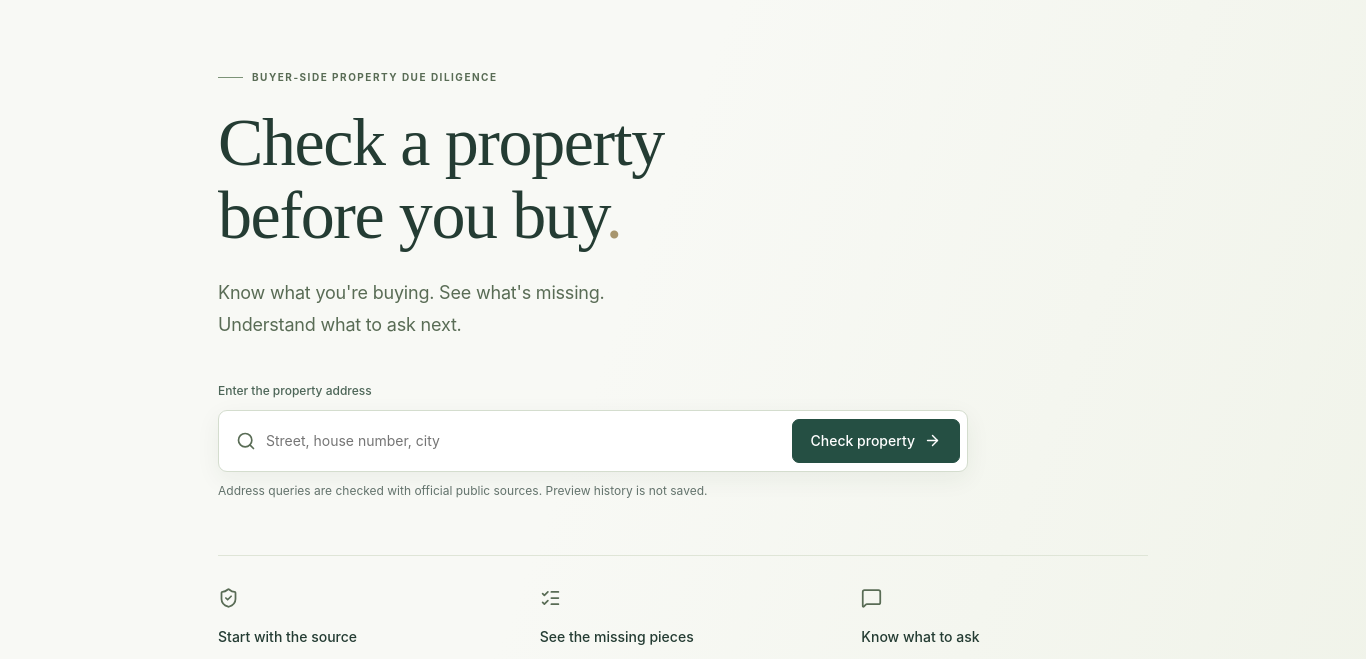
submits the address form and renders the official preview
Step 1. Type "Teststraat 42 Gent" into the field labelled "Enter the property address" → (524, 441), box [266, 418, 782, 464]
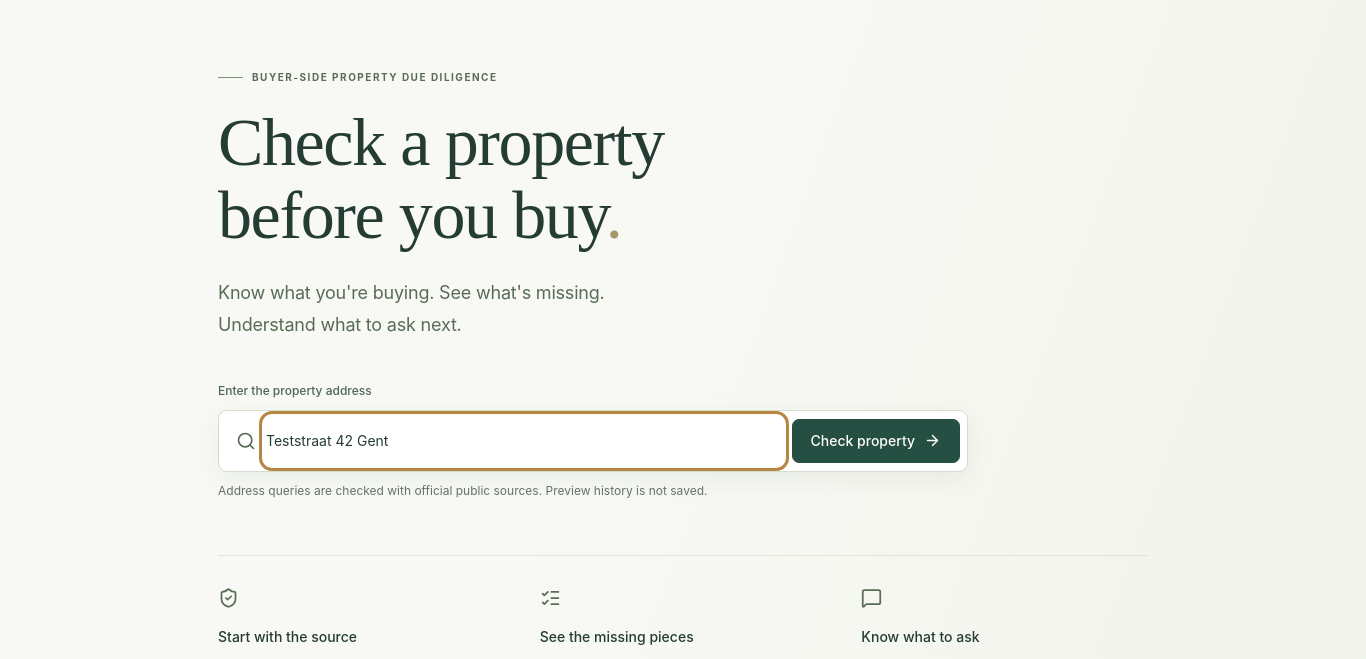
Step 2. Click the button "Check property" → (876, 441), box [792, 419, 960, 463]
(page scrolled)
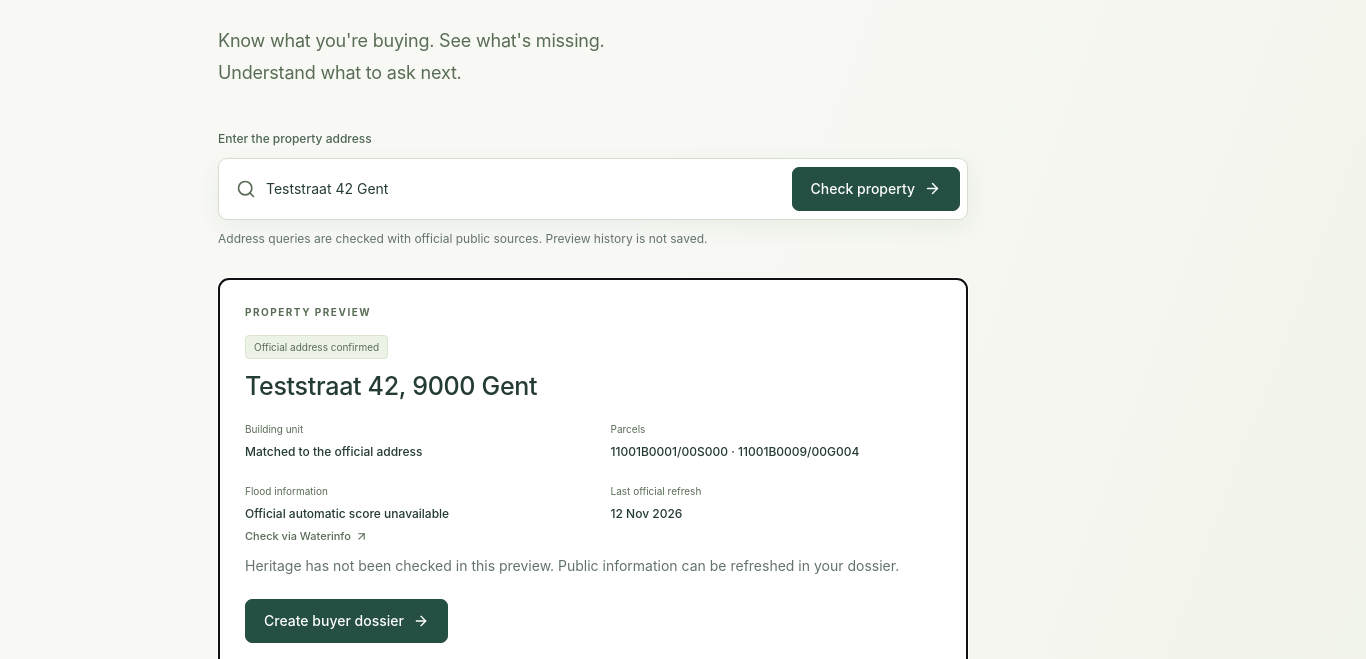
Expected: the heading "Teststraat 42, 9000 Gent" is shown, [245, 371, 537, 401]
Expected: the button "Create buyer dossier" is shown, [245, 599, 448, 643]
